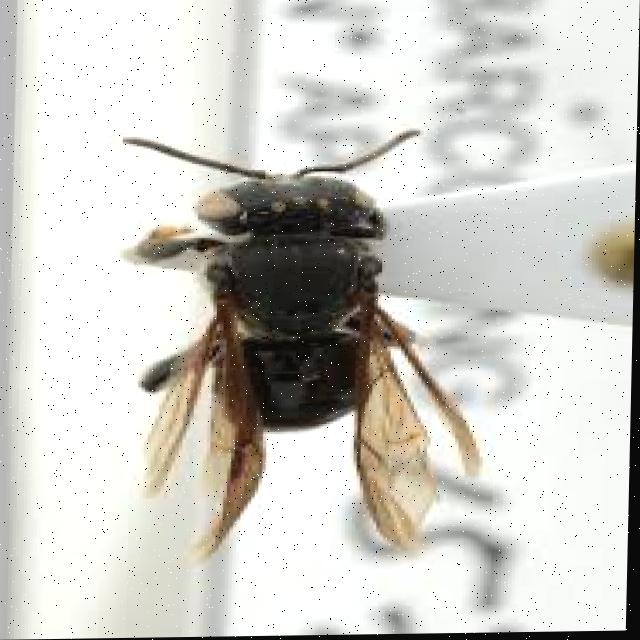Meliponula: (88, 116, 529, 567)
